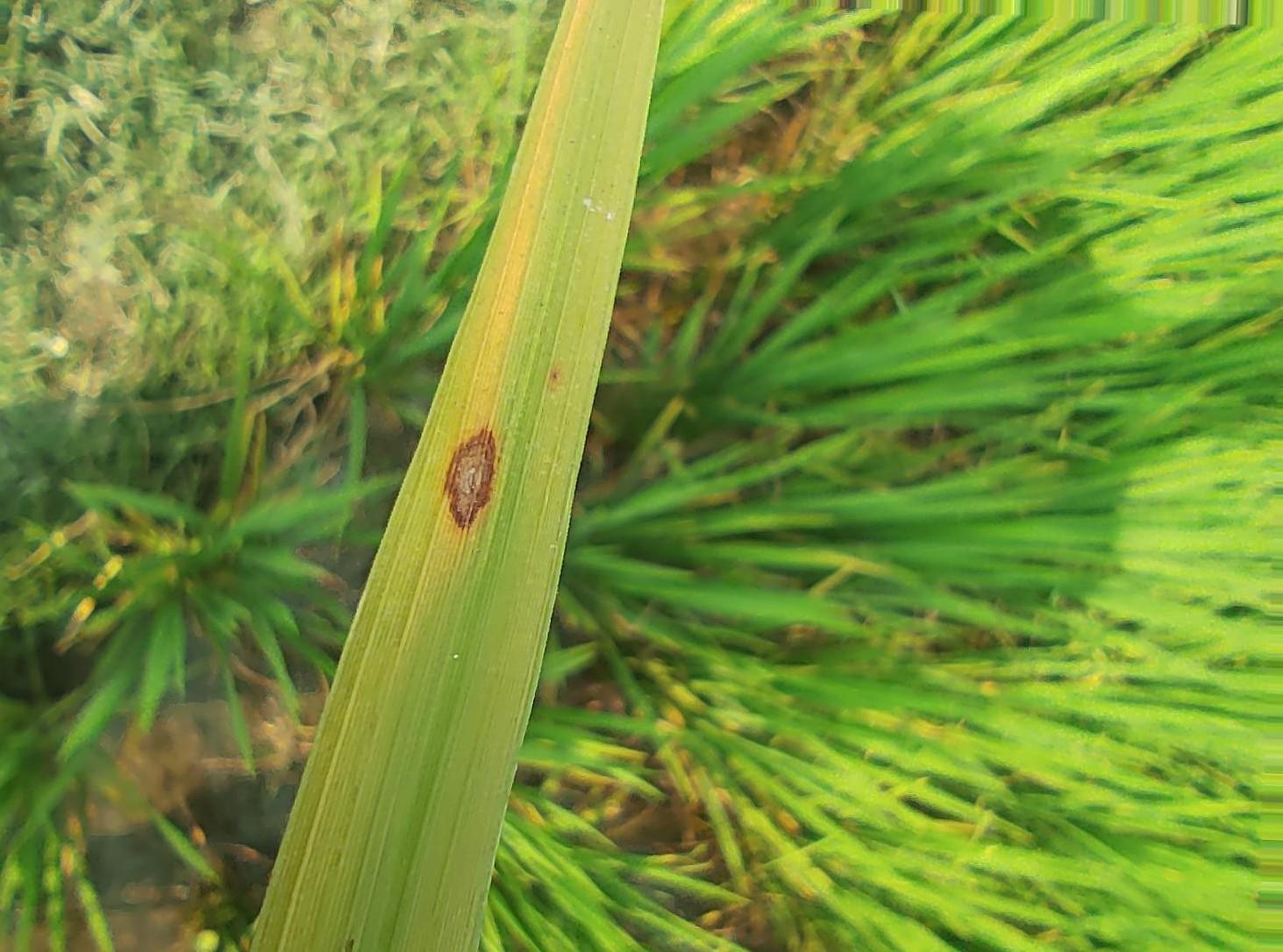LEAF: (252, 0, 664, 951)
LEAF BLAST: (445, 429, 496, 529)
